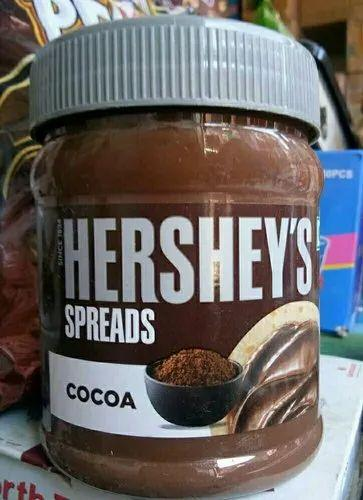Hershey-s: (31, 14, 325, 498)
